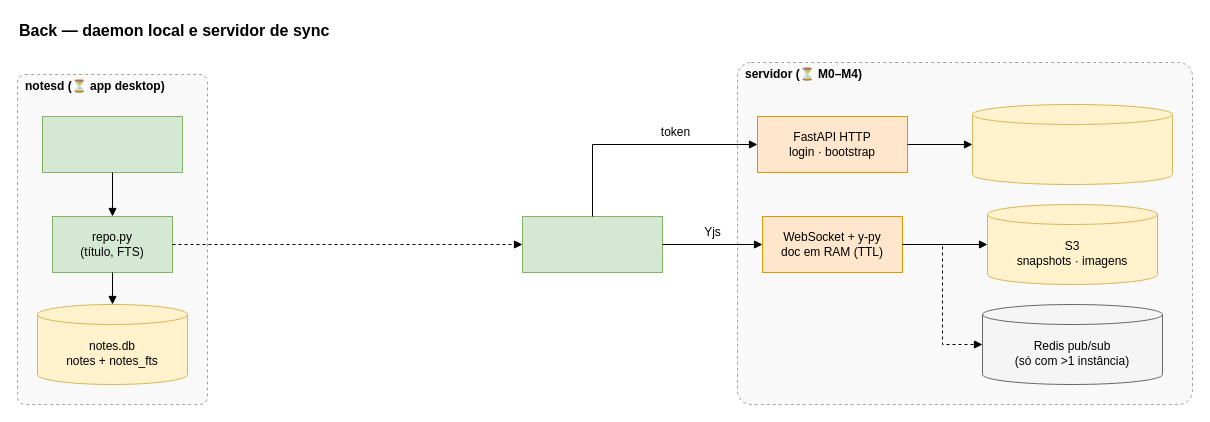
The diagram is 1210 pixels wide and 422 high, and some of its shapes have lost their labels. Each missing label, with the centre of its shape:
app.py (rotas FastAPI): (x=112, y=144)
cliente de sync (version > N): (x=592, y=244)
Postgres users · notes · version: (x=1072, y=144)
